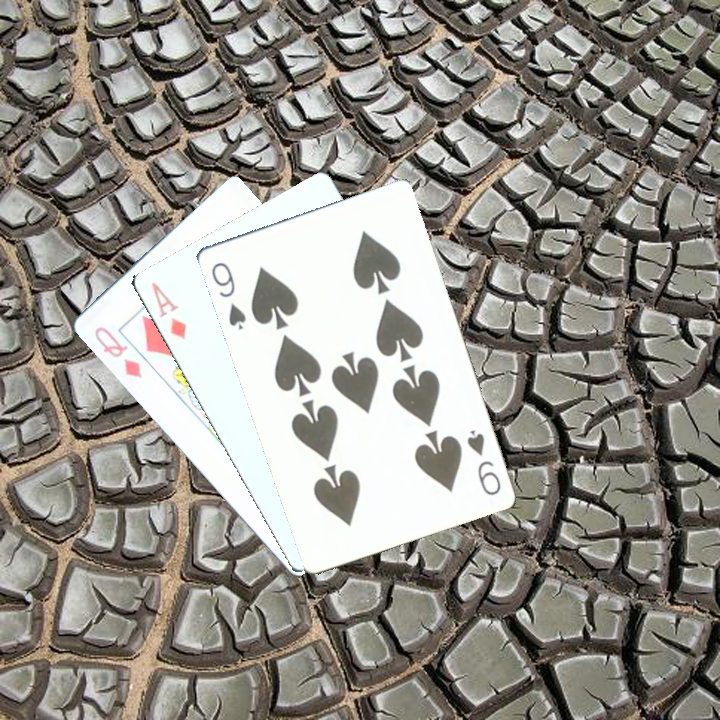9s: (207, 258, 249, 332), (462, 426, 504, 498)
Ad: (147, 277, 190, 342)
Qd: (90, 321, 156, 381)
